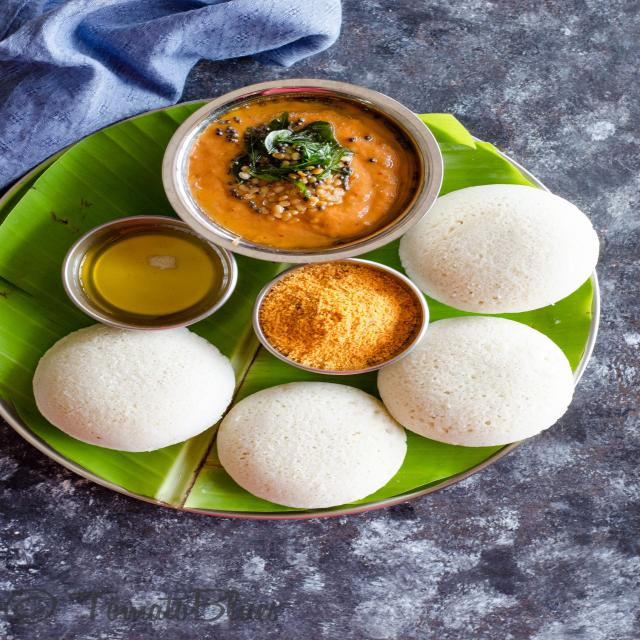Wet Waste: (393, 180, 610, 314), (373, 316, 591, 448), (38, 324, 243, 454), (217, 378, 411, 508)
